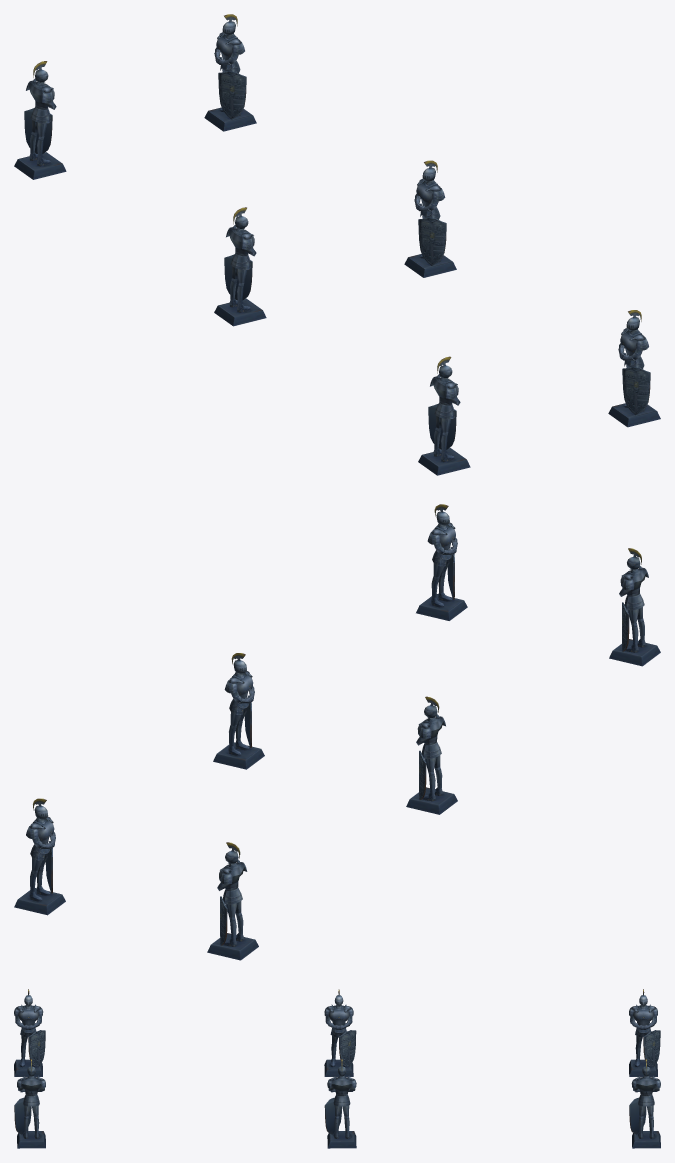
File: xiaowujian_group5.fbx
The picture shows the model from 3 angles, top to bottom: view 1: azimuth 30°, elevation 25°; view 2: azimuth 150°, elevation 25°; view 3: azimuth 270°, elevation 25°; orthographic projection. The views are drawn at different scales.
Visible parts, largest first — view 1: xiaowujian_group5; view 2: xiaowujian_group5; view 3: xiaowujian_group5.
Part boxes in pixels (x1=…): xiaowujian_group5: x1=14, y1=14, x2=660, y2=475; xiaowujian_group5: x1=14, y1=504, x2=660, y2=960; xiaowujian_group5: x1=14, y1=989, x2=660, y2=1148.
Size of the model in its own units: 1285 by 579 by 4183.
Materials: 1 (1 with a texture image).
